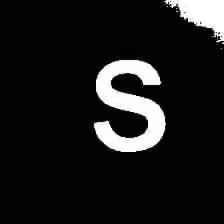LTR_S: (88, 51, 172, 156)
